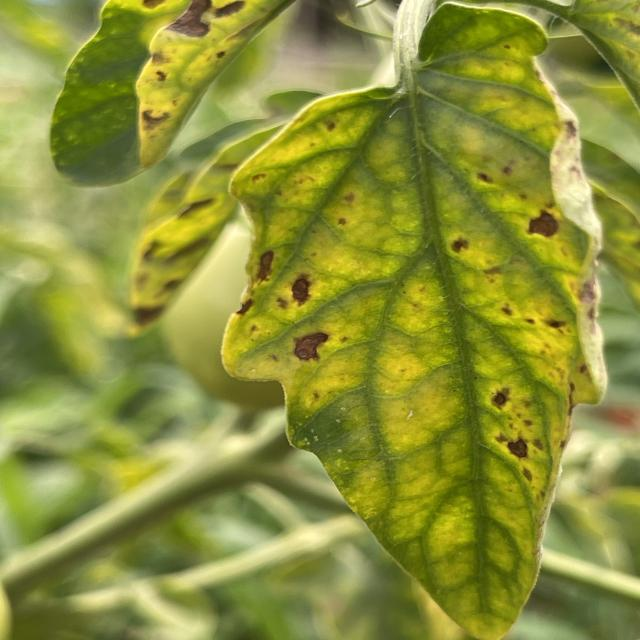tomato_early blight: (225, 2, 607, 640), (49, 0, 292, 186), (123, 105, 294, 327)
